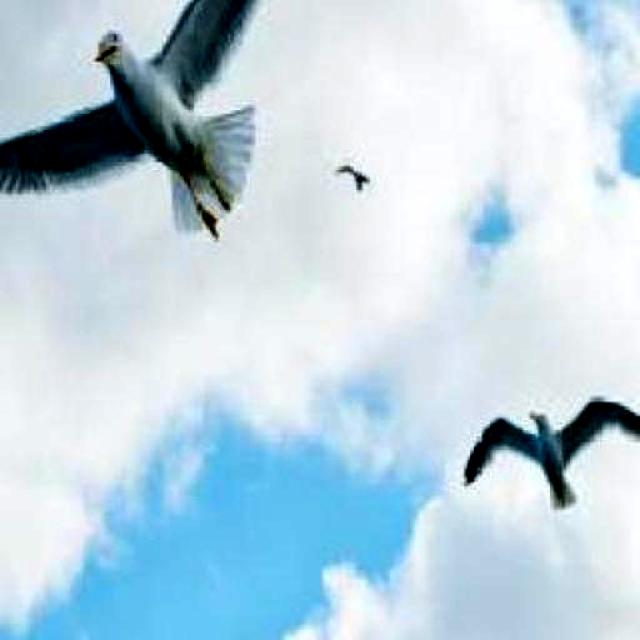airplane: (0, 0, 331, 249), (461, 396, 640, 514), (335, 165, 379, 199)
